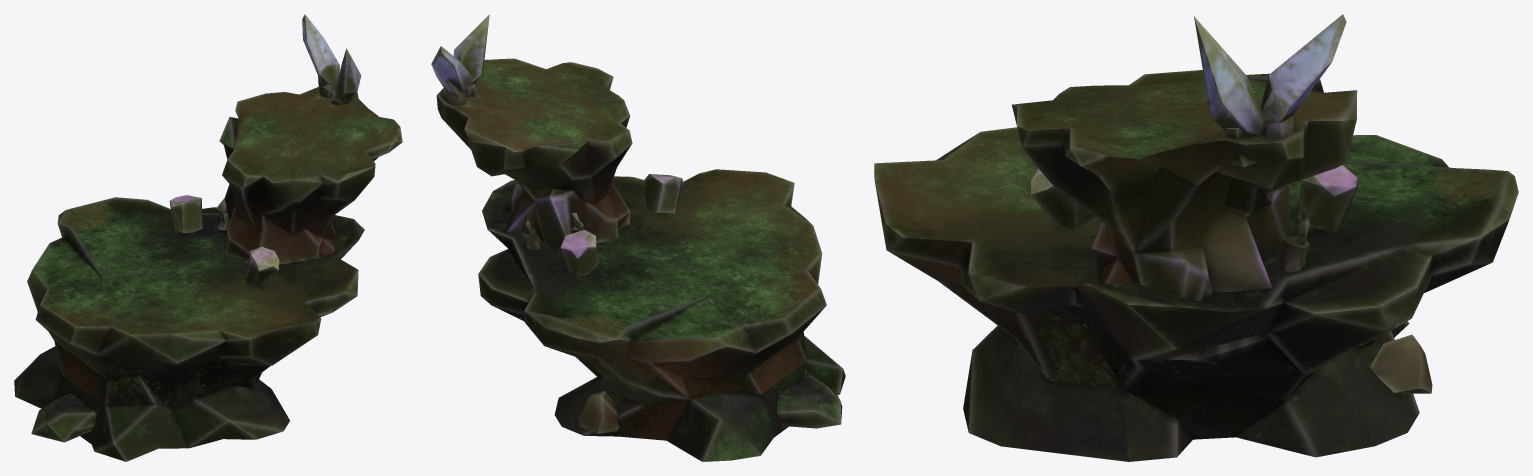
Rendered from FlooorPlatform5.fbx.
The picture shows the model from 3 angles, left to right: view 1: azimuth 30°, elevation 25°; view 2: azimuth 150°, elevation 25°; view 3: azimuth 270°, elevation 25°; orthographic projection. The views are drawn at different scales.
Parts seen in each view (by area): view 1: FlooorPlatform.006; view 2: FlooorPlatform.006; view 3: FlooorPlatform.006.
Boxes of the visible parts, bbox=[...] form: FlooorPlatform.006: bbox=[14, 14, 402, 461]; FlooorPlatform.006: bbox=[431, 14, 845, 461]; FlooorPlatform.006: bbox=[874, 14, 1518, 461].
Bounding box in the file's own units: 25.79 × 21.7 × 23.76.
Materials: 1 (1 with a texture image).
